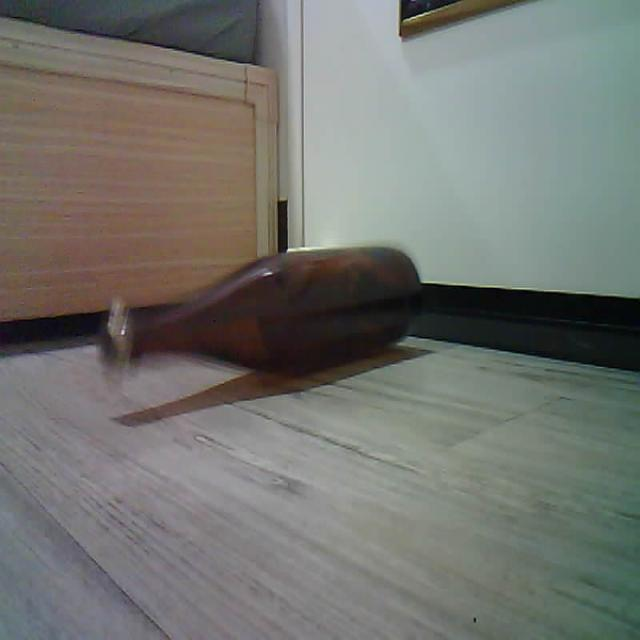bottle: (101, 249, 420, 375)
